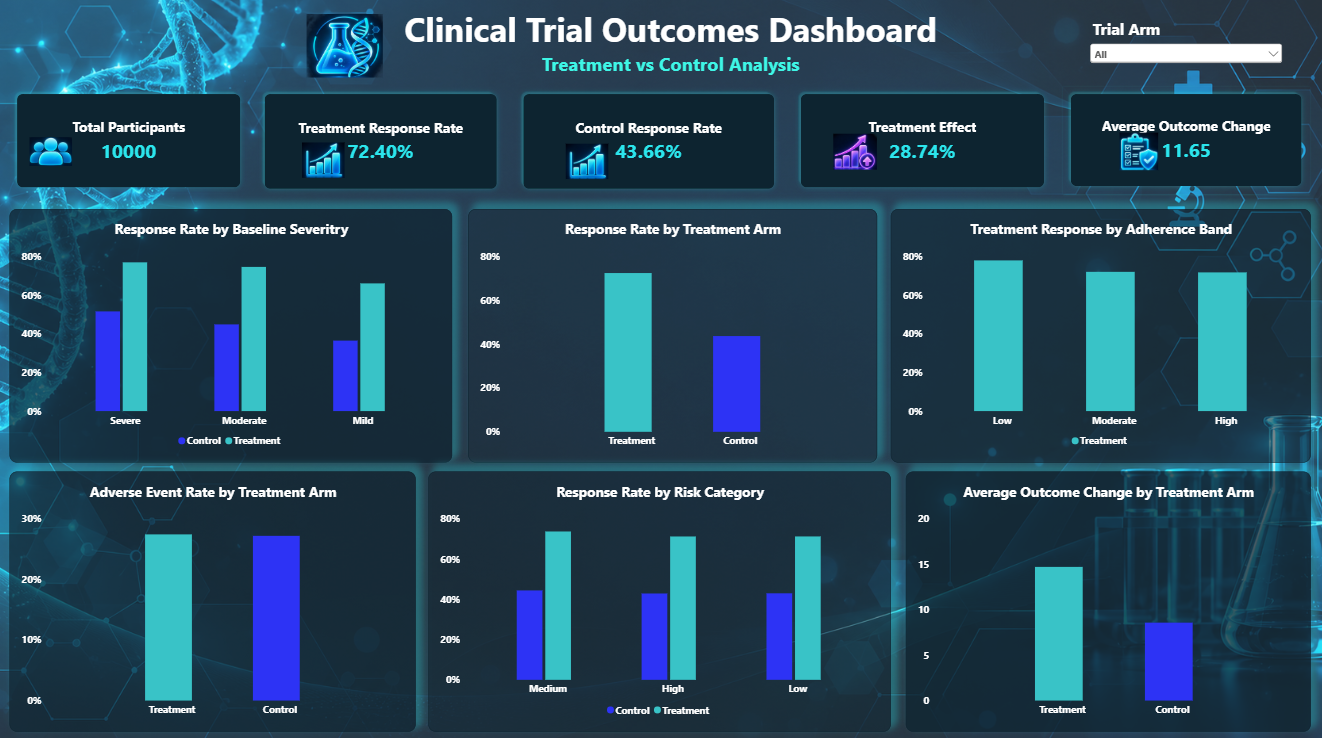

What the dashboard file says about the page in this screenshot:
{"tool":"powerbi","page":{"name":"Page 1","canvas":[1920,1080],"ordinal":0},"visuals":[{"type":"clusteredColumnChart","title":"Average Outcome Change by Treatment Arm","fields":{"Category":["PARTICIPANTS.TREATMENT_ARM"],"Y":["ADVERSE_EVENTS.Average Outcome Change"]},"box":[1315.6,691.3,586.3,376.4],"z":0},{"type":"clusteredColumnChart","title":"Response Rate by Treatment Arm","fields":{"Category":["PARTICIPANTS.TREATMENT_ARM"],"Y":["ADVERSE_EVENTS.Response Rate"]},"box":[682.2,311.3,591.8,367.4],"z":1000},{"type":"clusteredColumnChart","title":"Response Rate by Baseline Severitry","fields":{"Category":["PARTICIPANTS.BASELINE_SEVERITY"],"Series":["PARTICIPANTS.TREATMENT_ARM"],"Y":["ADVERSE_EVENTS.Response Rate"]},"box":[18.1,311.3,640.6,367.4],"z":2000},{"type":"clusteredColumnChart","title":"Response Rate by Risk Category","fields":{"Category":["PARTICIPANTS.RISK_CATEGORY"],"Series":["PARTICIPANTS.TREATMENT_ARM"],"Y":["ADVERSE_EVENTS.Response Rate"]},"box":[624.3,691.3,669.6,376.4],"z":3000},{"type":"clusteredColumnChart","title":"Adverse Event Rate by Treatment Arm","fields":{"Category":["PARTICIPANTS.TREATMENT_ARM"],"Y":["ADVERSE_EVENTS.Adverse Event Rate by Arm"]},"box":[18.1,691.3,588.1,376.4],"z":4000},{"type":"clusteredColumnChart","title":"Treatment Response by Adherence Band","fields":{"Category":["MEDICATION_ADHERENCE.ADHERENCE_BAND"],"Series":["PARTICIPANTS.TREATMENT_ARM"],"Y":["ADVERSE_EVENTS.Adherence Response Rate"]},"box":[1293.9,311.3,608,367.4],"z":5000},{"type":"cardVisual","fields":{"Data":["ADVERSE_EVENTS.Total Participants"]},"box":[18.1,133.9,345.6,157.4],"z":6000},{"type":"cardVisual","fields":{"Data":["ADVERSE_EVENTS.Treatment Response Rate"]},"box":[376.4,133.9,358.3,159.3],"z":7000},{"type":"cardVisual","fields":{"Data":["ADVERSE_EVENTS.Control Response Rate"]},"box":[751,133.9,385.5,159.3],"z":8000},{"type":"cardVisual","fields":{"Data":["ADVERSE_EVENTS.Treatment Effect"]},"box":[1152.8,133.9,374.6,157.4],"z":9000},{"type":"cardVisual","fields":{"Data":["ADVERSE_EVENTS.Average Outcome Change"]},"box":[1543.6,133.9,356.5,155.6],"z":10000},{"type":"textbox","box":[394.5,18.1,1161.8,115.8],"z":11000},{"type":"slicer","fields":{"Values":["PARTICIPANTS.TREATMENT_ARM"]},"box":[1578,34.4,287.7,81.4],"z":12000},{"type":"image","box":[1625.1,199.1,56.1,57.9],"z":12001},{"type":"image","box":[47.1,193.6,61.5,68.8],"z":12002},{"type":"image","box":[823.4,213.5,61.5,57.9],"z":12003},{"type":"image","box":[441.6,211.7,61.5,57.9],"z":12004},{"type":"image","box":[443.4,29,119.4,92.3],"z":12005},{"type":"image","box":[1210.7,199.1,63.3,57.9],"z":12006}]}

Visuals, with their boxes in screenshot pixels (x1, y1, x2, y2), scaled from the page's 1920x1080 canvas onto the 1322x738 screenshot:
"Average Outcome Change by Treatment Arm" clusteredColumnChart: select_region(906, 472, 1310, 730)
"Response Rate by Treatment Arm" clusteredColumnChart: select_region(470, 213, 877, 464)
"Response Rate by Baseline Severitry" clusteredColumnChart: select_region(12, 213, 454, 464)
"Response Rate by Risk Category" clusteredColumnChart: select_region(430, 472, 891, 730)
"Adverse Event Rate by Treatment Arm" clusteredColumnChart: select_region(12, 472, 417, 730)
"Treatment Response by Adherence Band" clusteredColumnChart: select_region(891, 213, 1310, 464)
cardVisual - ADVERSE_EVENTS.Total Participants: select_region(12, 91, 250, 199)
cardVisual - ADVERSE_EVENTS.Treatment Response Rate: select_region(259, 91, 506, 200)
cardVisual - ADVERSE_EVENTS.Control Response Rate: select_region(517, 91, 783, 200)
cardVisual - ADVERSE_EVENTS.Treatment Effect: select_region(794, 91, 1052, 199)
cardVisual - ADVERSE_EVENTS.Average Outcome Change: select_region(1063, 91, 1308, 198)
textbox: select_region(272, 12, 1072, 91)
slicer - PARTICIPANTS.TREATMENT_ARM: select_region(1087, 24, 1285, 79)
image: select_region(1119, 136, 1158, 176)
image: select_region(32, 132, 75, 179)
image: select_region(567, 146, 609, 185)
image: select_region(304, 145, 346, 184)
image: select_region(305, 20, 388, 83)
image: select_region(834, 136, 877, 176)
